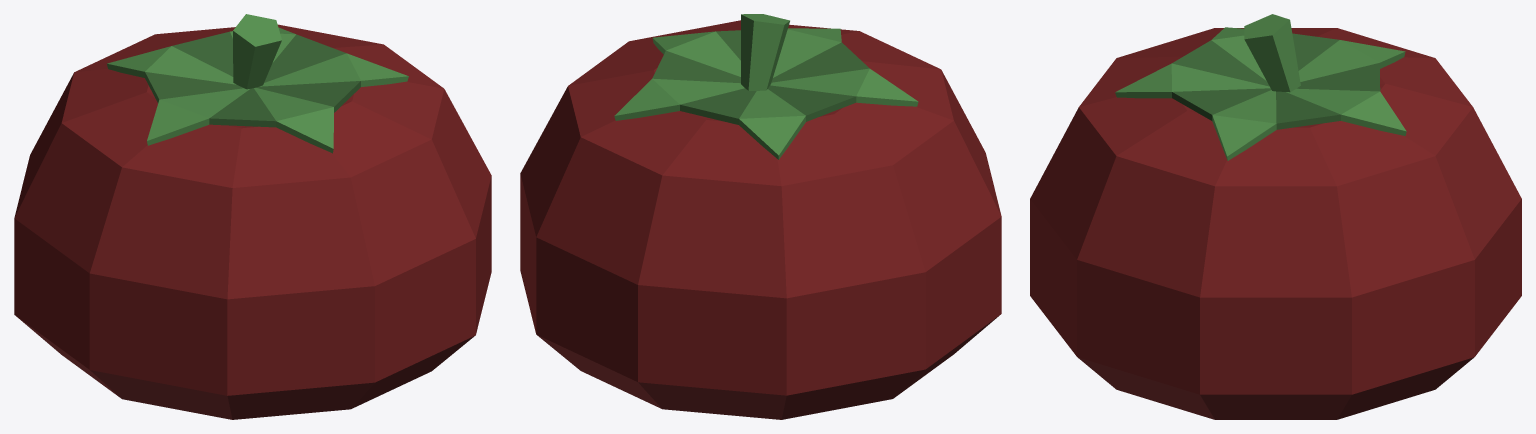
Rendered from tomatev0.1.fbx.
3 views of the same model, side by side, from view 1: azimuth 30°, elevation 25°; view 2: azimuth 150°, elevation 25°; view 3: azimuth 270°, elevation 25° (orthographic).
Visible parts, largest first — view 1: Sphere.005, Sphere.006, Cylinder; view 2: Sphere.005, Sphere.006, Cylinder; view 3: Sphere.005, Sphere.006, Cylinder.
Part boxes in pixels (left/top/right/bottom): Sphere.005: left=14, top=24, right=491, bottom=419; Sphere.006: left=107, top=27, right=408, bottom=153; Cylinder: left=233, top=14, right=281, bottom=89; Sphere.005: left=520, top=20, right=1001, bottom=419; Sphere.006: left=614, top=28, right=918, bottom=159; Cylinder: left=741, top=14, right=789, bottom=90; Sphere.005: left=1030, top=28, right=1521, bottom=419; Sphere.006: left=1115, top=27, right=1406, bottom=160; Cylinder: left=1244, top=14, right=1300, bottom=92.
Bounding box in the file's own units: 115 × 95.43 × 121.
